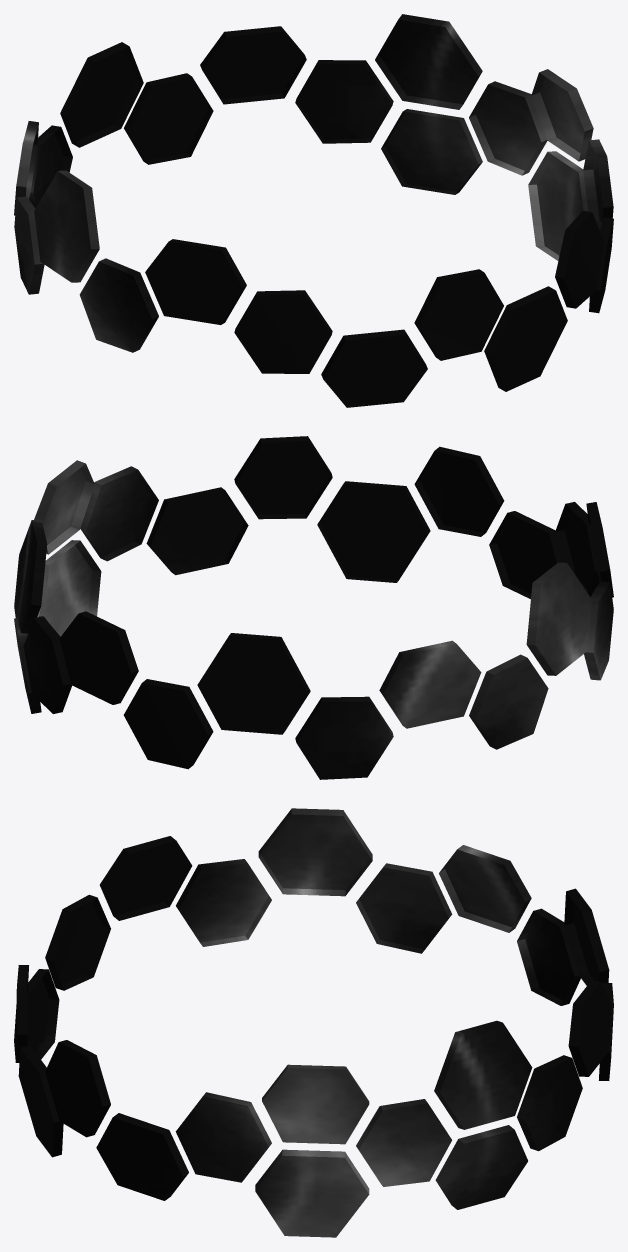
The model's file is 0209_bandun.glb.
3 renders of one model, top to bottom at view 1: azimuth 30°, elevation 25°; view 2: azimuth 150°, elevation 25°; view 3: azimuth 270°, elevation 25°, orthographic.
Size of the model in its own units: 2.19 by 0.7791 by 2.2.
1 material, 1 textured.
